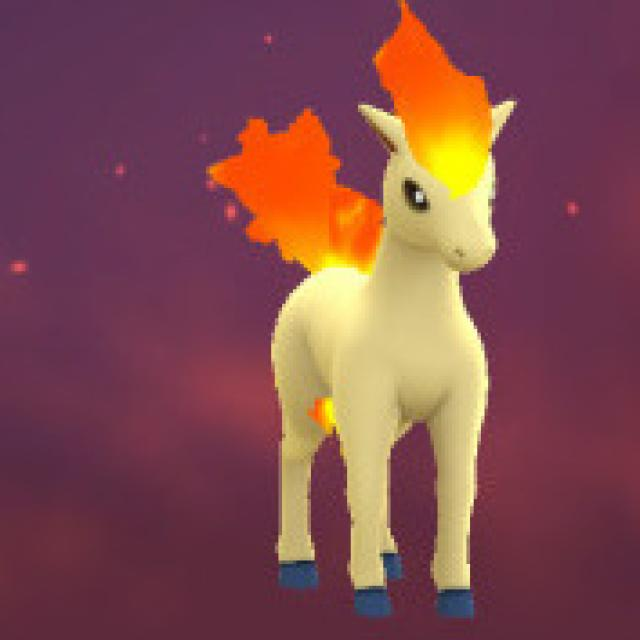Ponyta: (242, 0, 525, 640)
